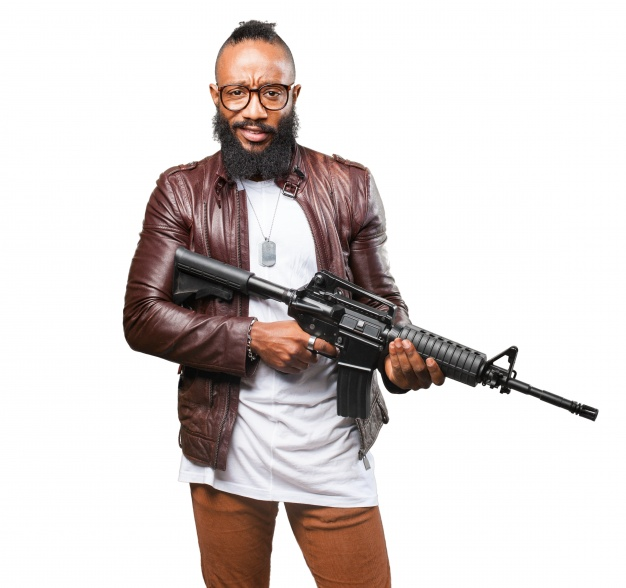Rifle: (169, 244, 604, 426)
